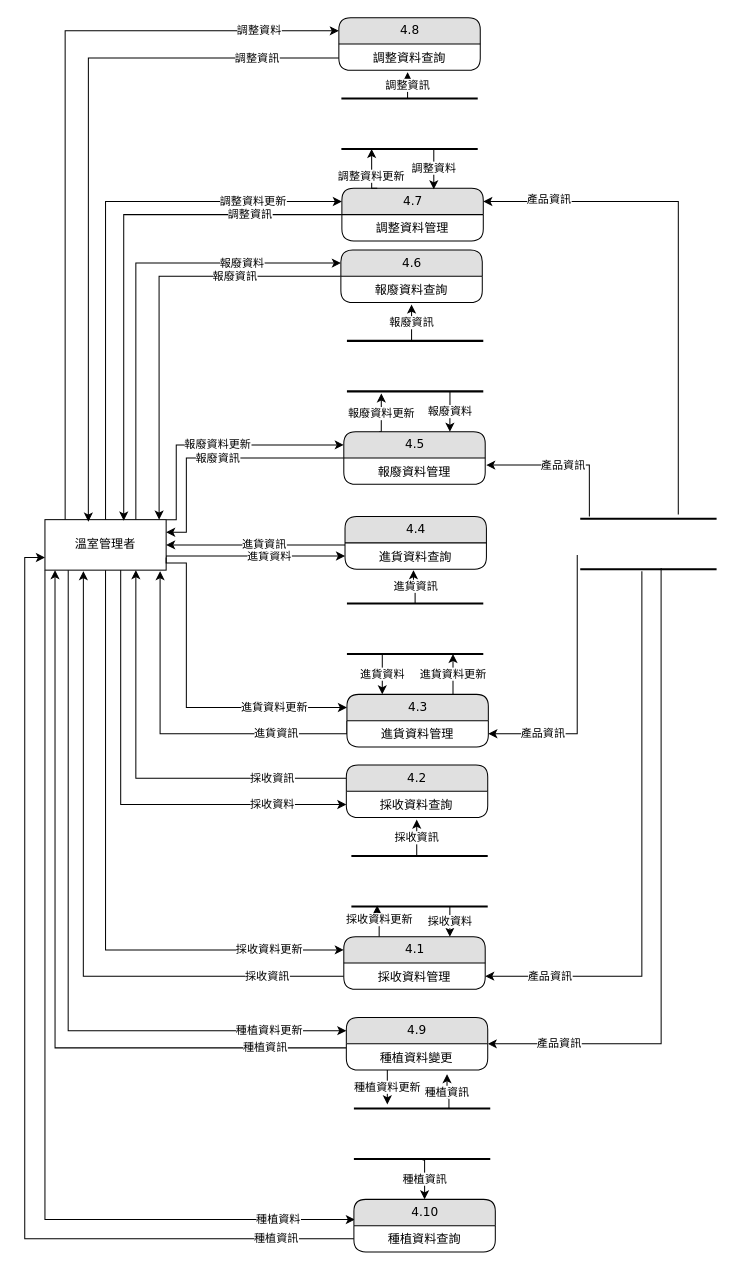
Image size: 735x1273. Some labels were removed from this diagram. The centre of each missing label's shape, as x and y in pixels:
"報廢資料庫" belongs at (x=414, y=365).
"採收資料庫" belongs at (x=419, y=880).
"產品資料庫" belongs at (x=648, y=543).
"種植資料庫" belongs at (x=421, y=1133).
"調整資料庫" belongs at (x=409, y=123).
"進貨資料庫" belongs at (x=414, y=628).
